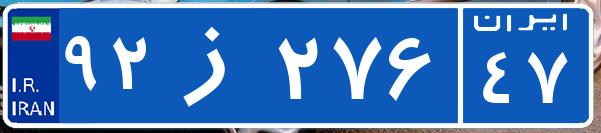2: (273, 28, 330, 110), (110, 28, 158, 105)
4: (475, 38, 525, 113)
6: (385, 28, 445, 110)
7: (330, 28, 385, 110), (525, 38, 570, 115)
9: (57, 26, 110, 107)
ز: (158, 15, 273, 115)
